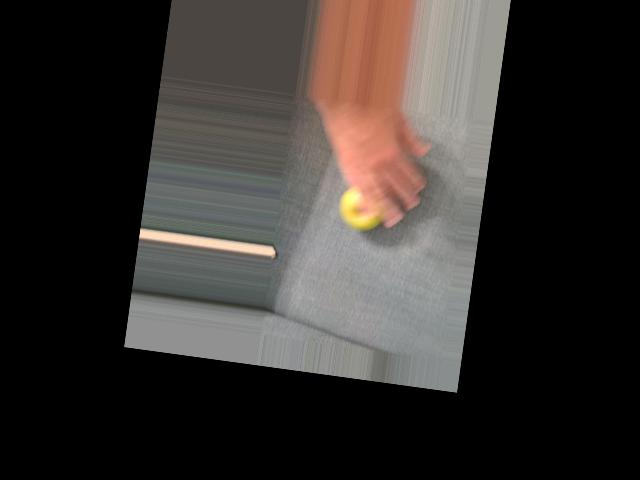apple: (324, 146, 398, 242)
